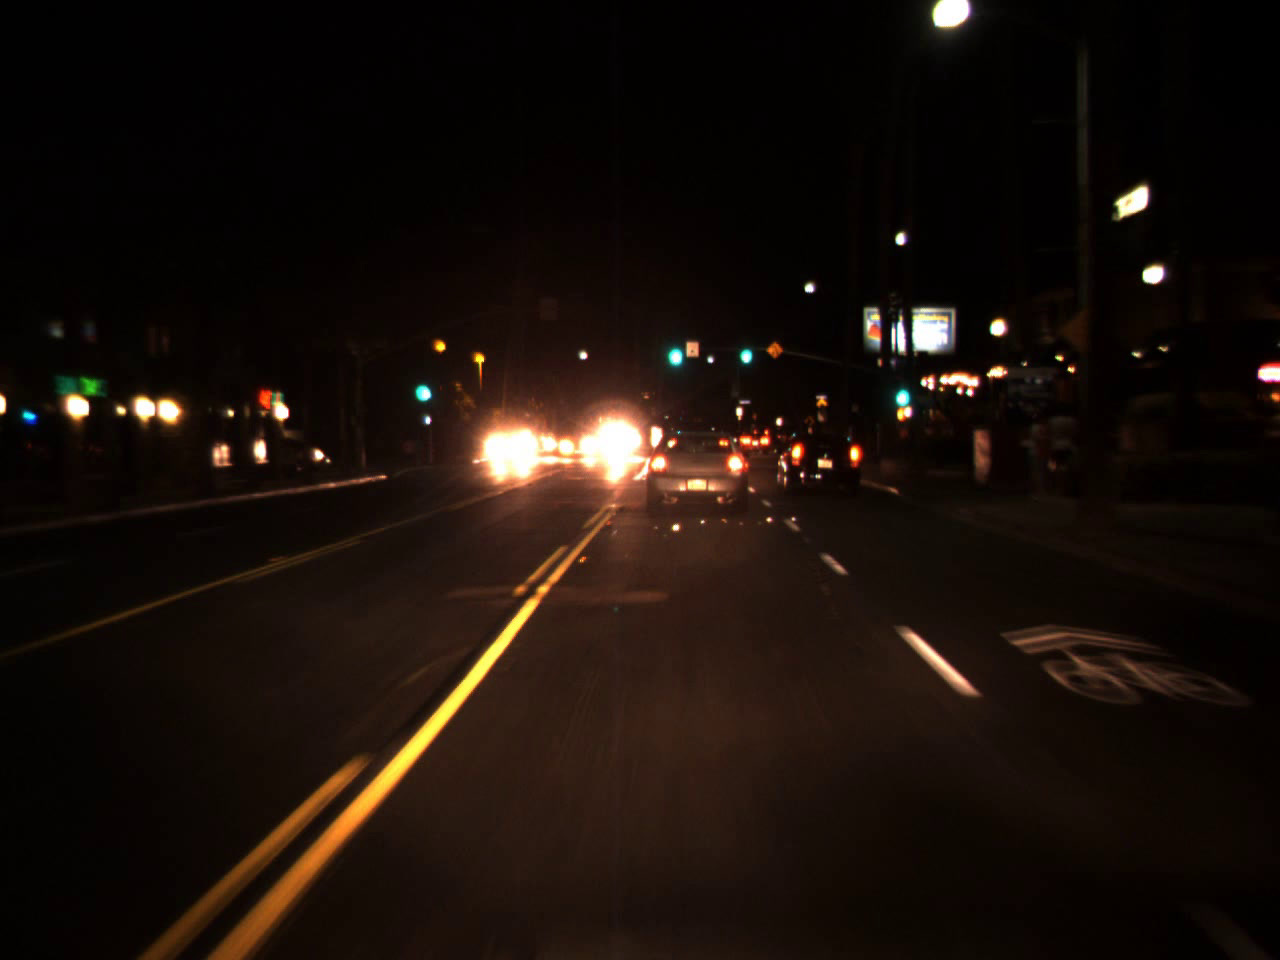go: (887, 367, 915, 412), (409, 365, 434, 407), (664, 327, 685, 372), (735, 328, 754, 367)
